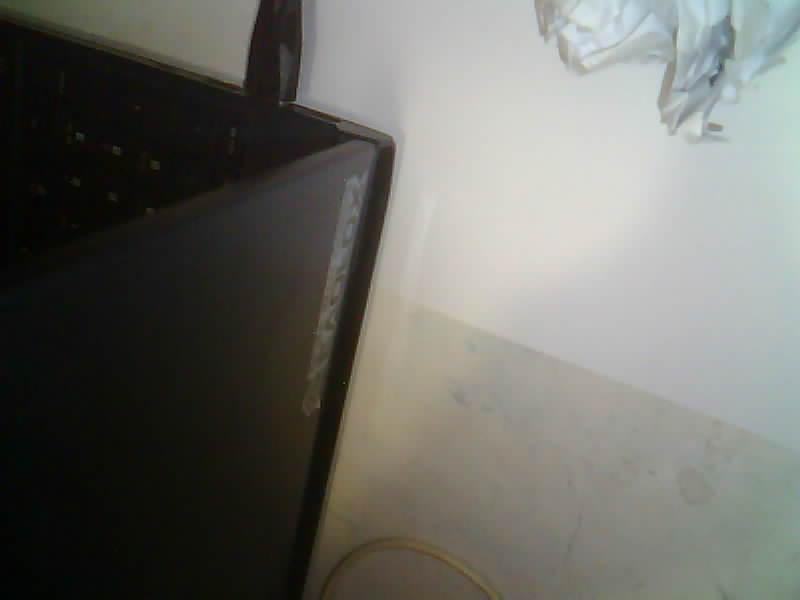biodegradable: (535, 0, 799, 140)
